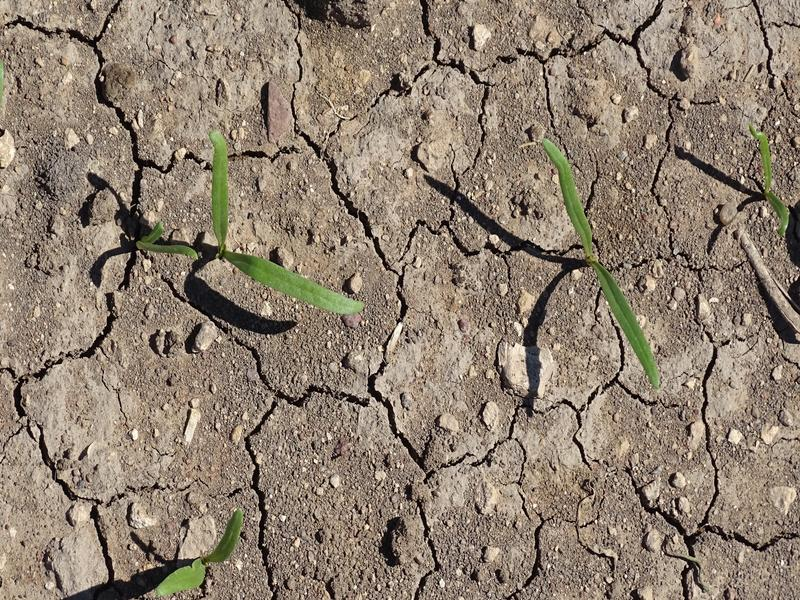Espinaca: (130, 137, 366, 321), (539, 132, 668, 392), (154, 504, 249, 597)
